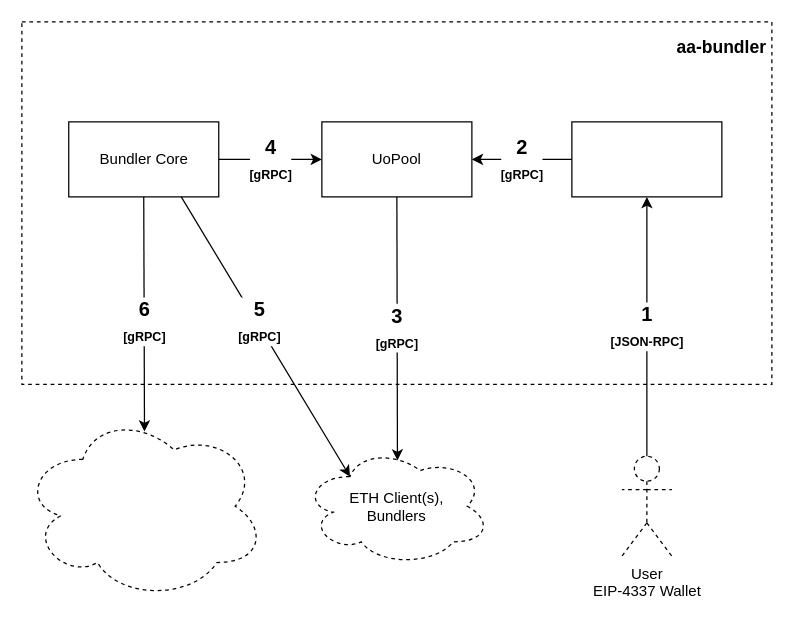
Some shapes in this 794 by 623 pixel diagram are drawn without their labels. The centre of each missing label's shape, as x and y in pixels:
"ETH Client (block producer), Flashbots MEV-Boost, Flashbots Protect ..." goes at (x=143, y=505).
"ETH RPC API" goes at (x=646, y=159).
